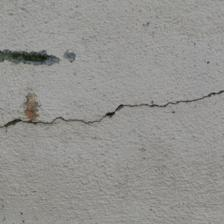Crack: (79, 12, 145, 49), (196, 44, 224, 71)
